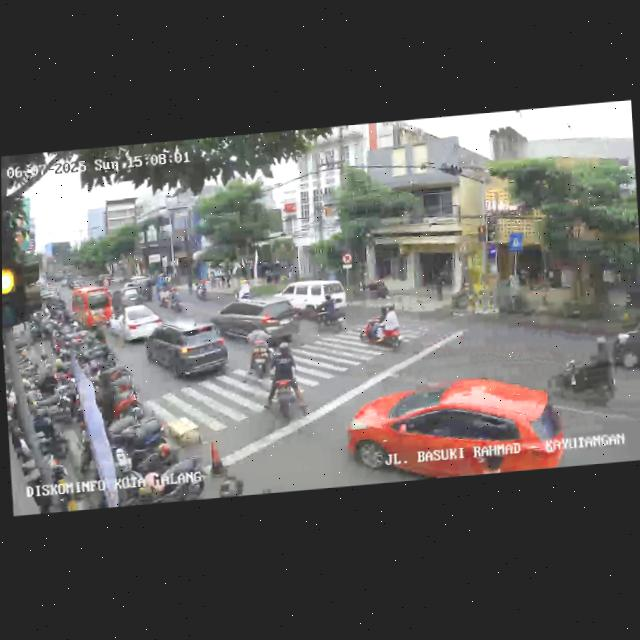car: (346, 371, 567, 486), (144, 317, 231, 385), (216, 292, 302, 346), (112, 302, 166, 346), (610, 306, 640, 378), (69, 282, 112, 331), (111, 285, 143, 307)
motorcycle: (550, 339, 621, 411), (260, 340, 307, 423), (361, 304, 405, 356), (243, 322, 278, 384), (314, 292, 348, 333)
